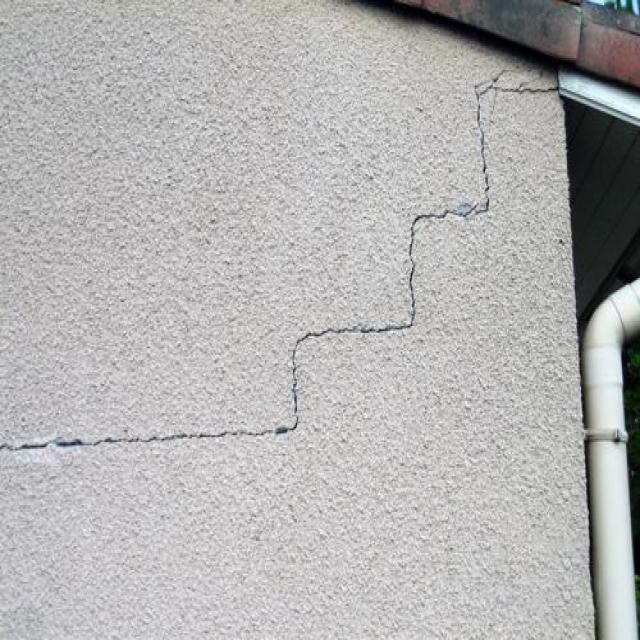crack: (0, 81, 560, 456)
